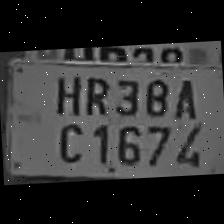1: (84, 118, 110, 166)
3: (108, 69, 140, 116)
4: (168, 116, 204, 168)
6: (111, 118, 142, 166)
7: (141, 118, 170, 166)
8: (138, 70, 170, 116)
A: (168, 72, 199, 120)
C: (50, 117, 84, 164)
H: (48, 68, 84, 116)
R: (79, 68, 111, 116)
